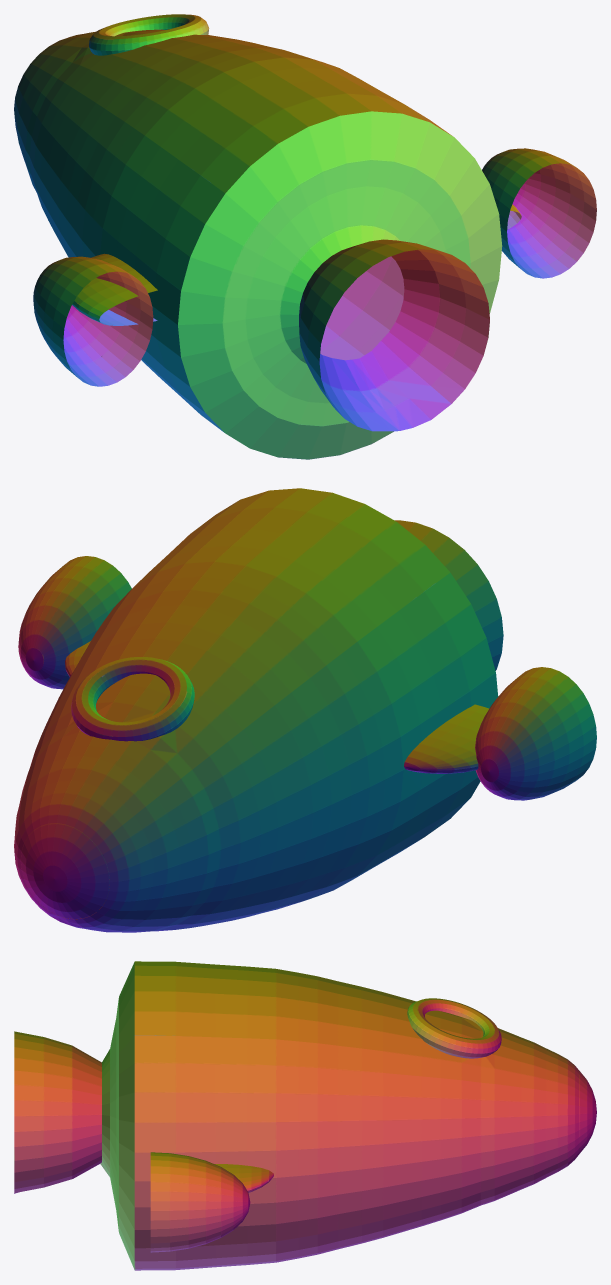
File: ship6.obj
The picture shows the model from 3 angles, top to bottom: view 1: azimuth 30°, elevation 25°; view 2: azimuth 150°, elevation 25°; view 3: azimuth 270°, elevation 25°; orthographic projection. The views are drawn at different scales.
Parts seen in each view (by area): view 1: Cylinder; view 2: Cylinder; view 3: Cylinder.
Boxes of the visible parts, box(x1,y1,x2,y2) form: Cylinder: box(14, 14, 596, 459); Cylinder: box(14, 488, 596, 932); Cylinder: box(14, 961, 596, 1270).
Size of the model in its own units: 3.3 by 2.01 by 3.78.
6 materials, 6 textured.
